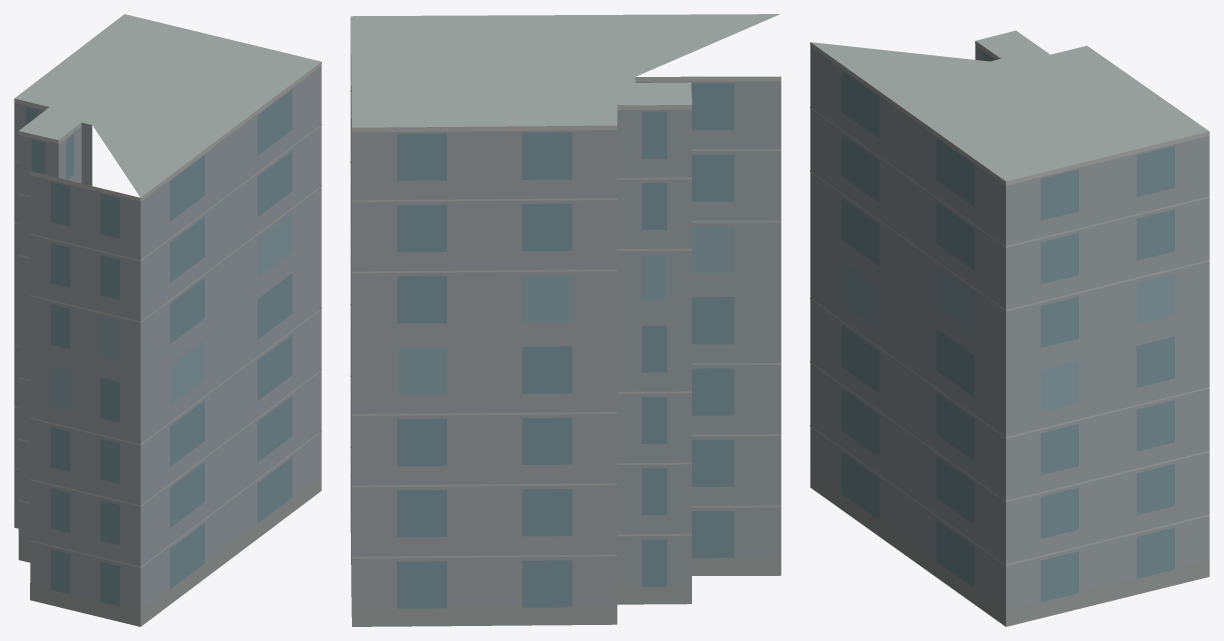
File: survey-upis-32668983.glb
3 renders of one model, left to right at view 1: azimuth 30°, elevation 25°; view 2: azimuth 150°, elevation 25°; view 3: azimuth 270°, elevation 25°, orthographic. The views are drawn at different scales.
Parts seen in each view (by area): view 1: survey-upis-32668983.tmp; view 2: survey-upis-32668983.tmp; view 3: survey-upis-32668983.tmp.
Boxes of the visible parts, left/top/right/bottom form: survey-upis-32668983.tmp: left=14, top=14, right=321, bottom=626; survey-upis-32668983.tmp: left=350, top=14, right=781, bottom=626; survey-upis-32668983.tmp: left=810, top=30, right=1209, bottom=626.
Bounding box in the file's own units: 20.92 × 25.9 × 21.07.
